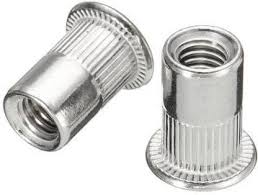Thread: (153, 28, 244, 78), (2, 90, 72, 152)
